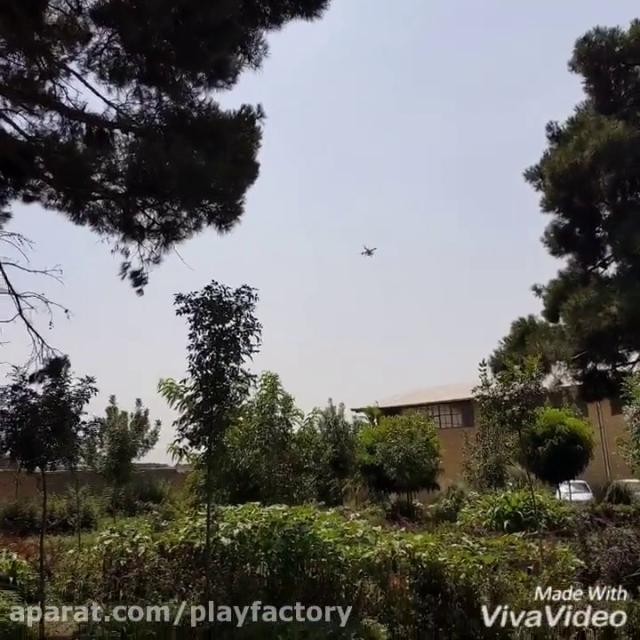drone: (358, 239, 382, 262)
